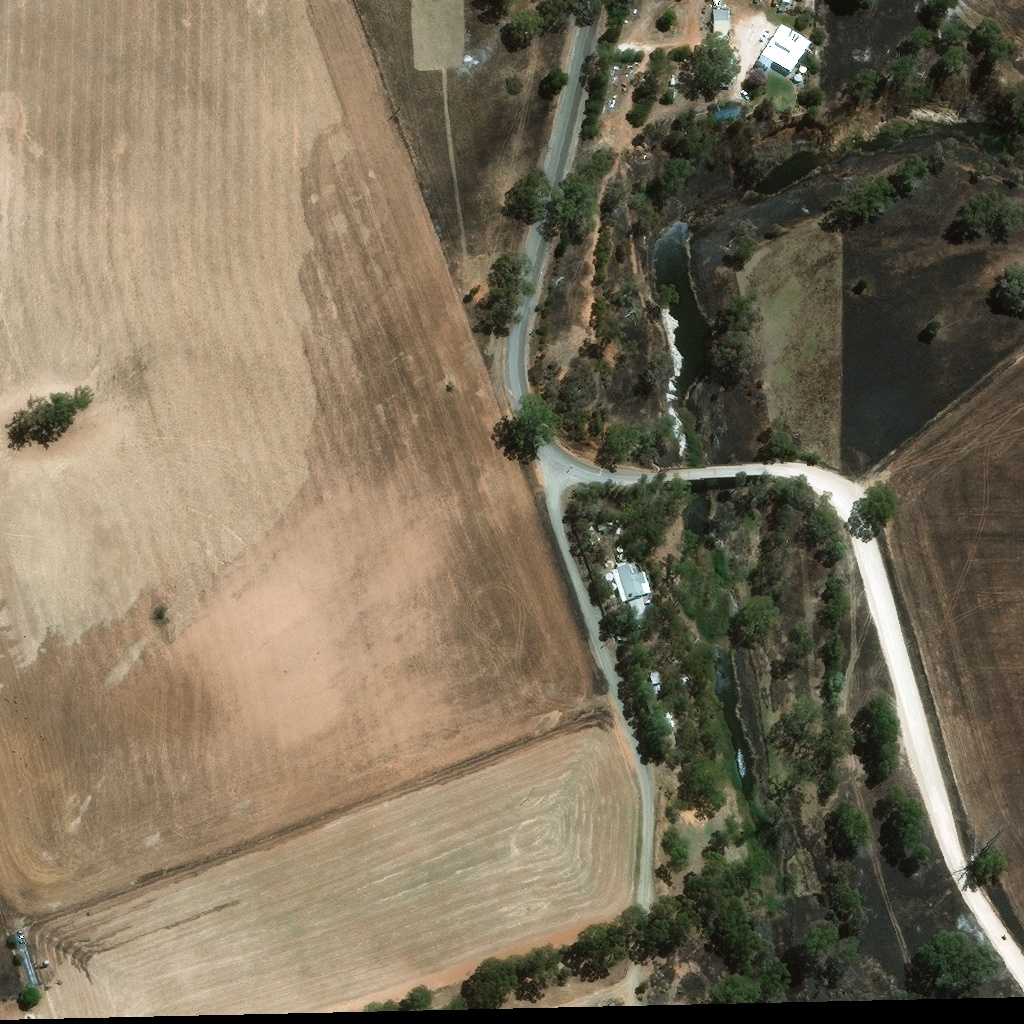0 no-damage: (603, 564, 651, 629), (755, 27, 811, 78), (711, 9, 729, 43), (712, 105, 741, 126), (659, 714, 675, 732), (792, 70, 806, 86), (648, 673, 662, 688), (587, 539, 599, 550), (666, 91, 675, 103), (614, 548, 625, 557), (596, 526, 603, 534), (613, 530, 620, 537), (669, 80, 675, 88)
4 un-classified: (726, 53, 738, 62), (726, 67, 735, 76), (726, 4, 731, 9)
